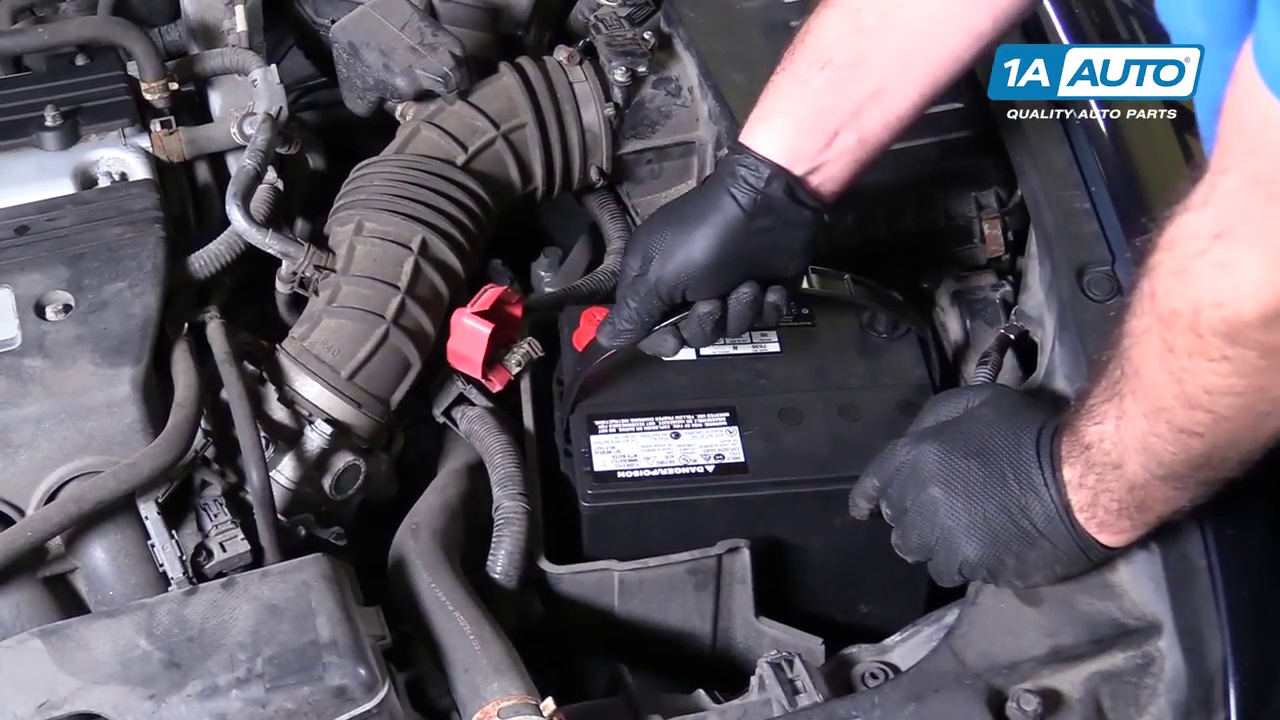battery: (549, 285, 934, 489)
pos_disconnected: (438, 265, 625, 409)
